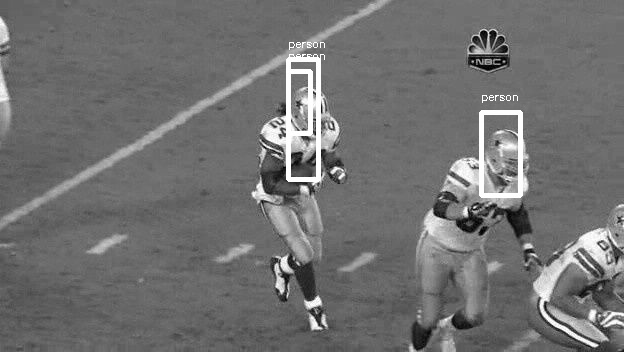person: (294, 88, 330, 134), (293, 88, 329, 134), (295, 88, 331, 134), (294, 87, 330, 133), (294, 89, 330, 135)
target_negative: (497, 195, 580, 296), (63, 54, 97, 247), (120, 26, 151, 231), (411, 255, 489, 322), (297, 73, 546, 82), (359, 189, 379, 249)
